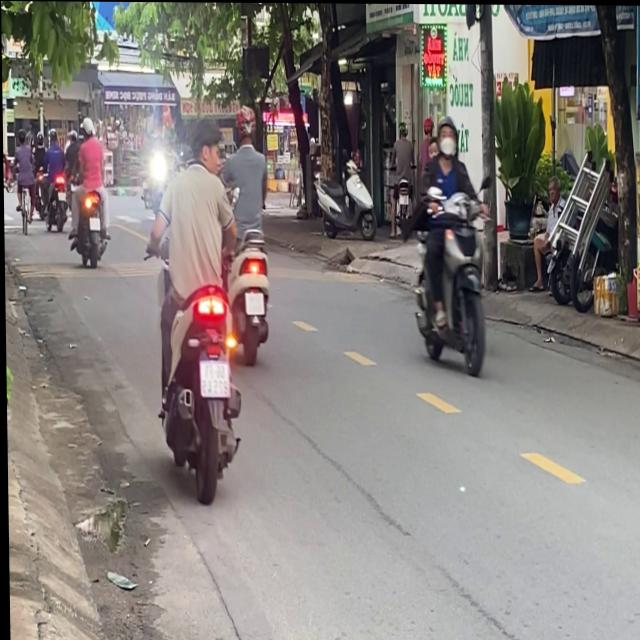helmet: (435, 112, 458, 158)
licenseplate: (144, 108, 242, 498), (408, 110, 491, 374), (218, 101, 275, 362)
motorcyclist: (192, 114, 222, 172), (232, 103, 257, 146)
nohelmet: (198, 360, 228, 396), (245, 289, 263, 313)
